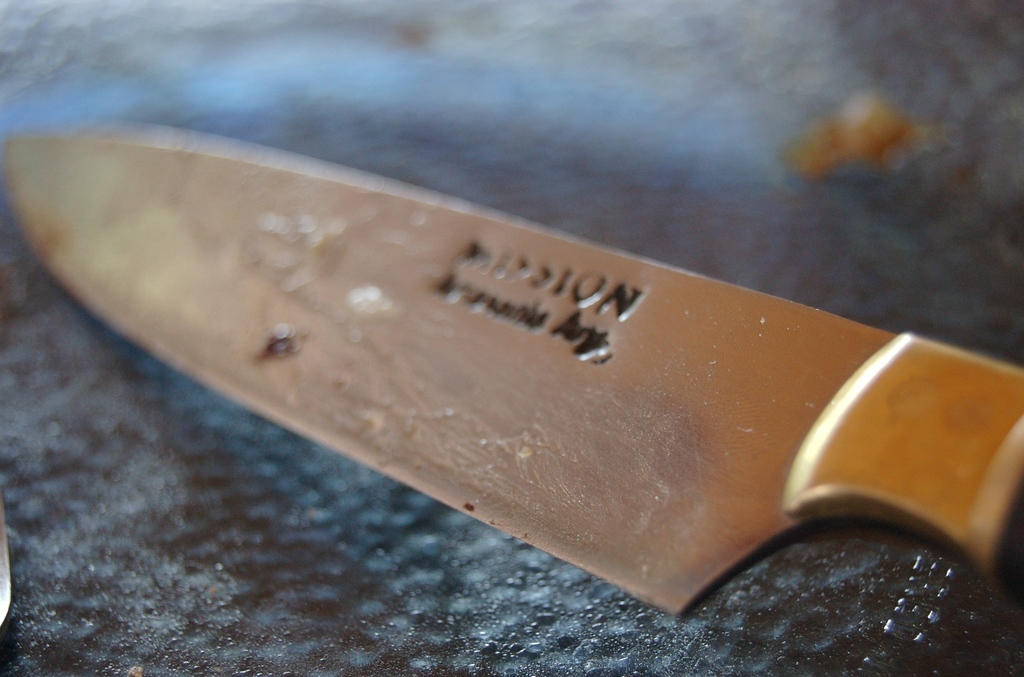knife: (6, 123, 1023, 616)
